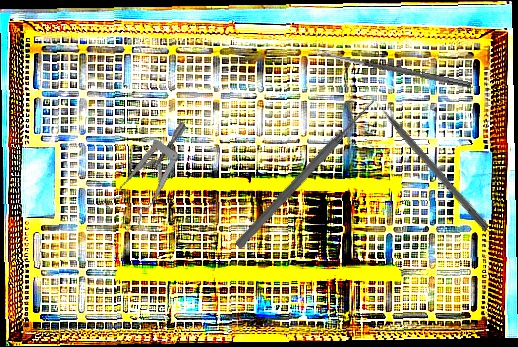Pusher: (233, 95, 379, 252), (366, 90, 492, 232)
Speculum: (89, 121, 218, 236)
Surgical Spoon: (316, 48, 473, 89)
